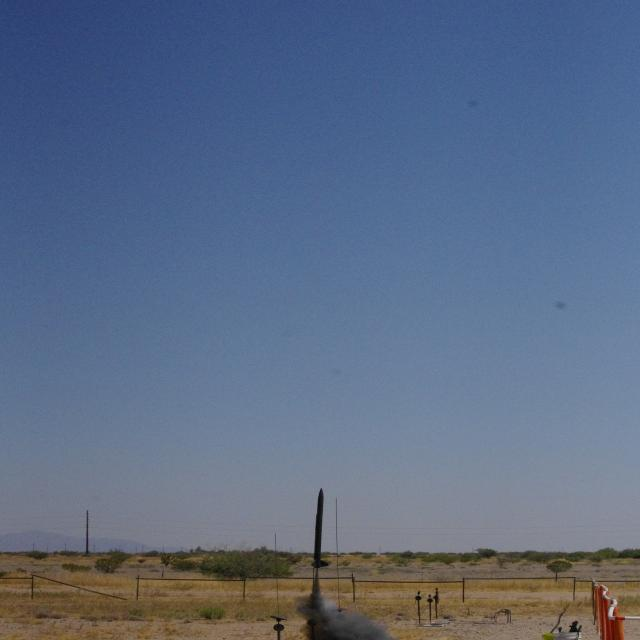Rocket: (311, 488, 329, 568)
